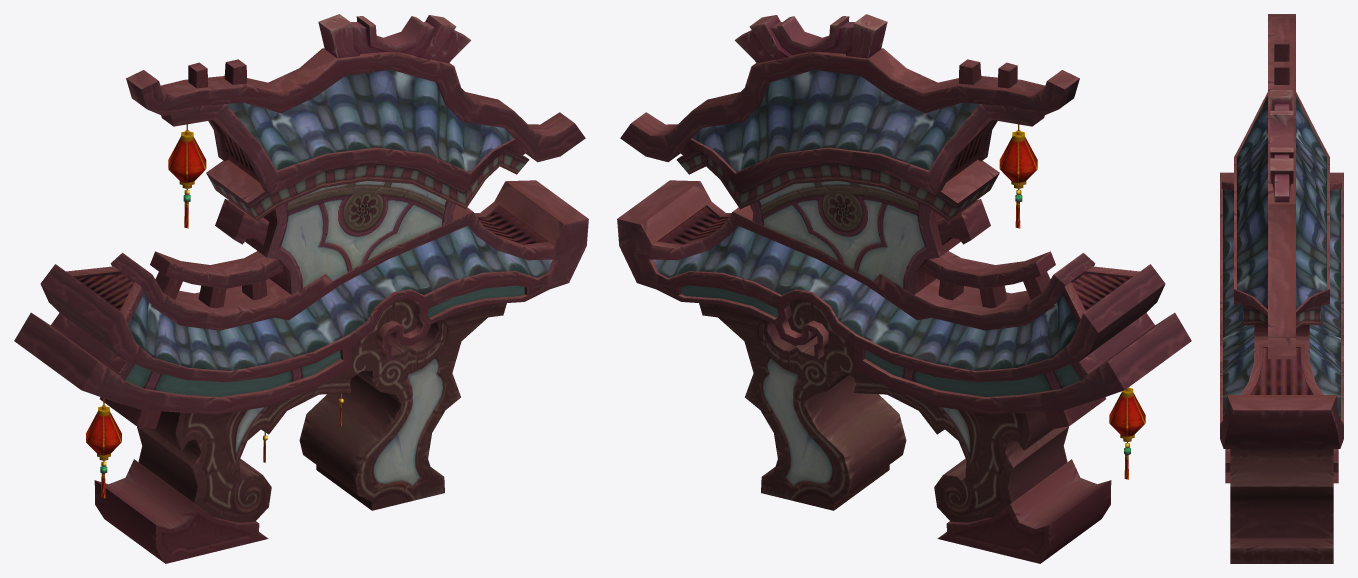
The picture shows the model from 3 angles, left to right: view 1: azimuth 30°, elevation 25°; view 2: azimuth 150°, elevation 25°; view 3: azimuth 270°, elevation 25°; orthographic projection. The views are drawn at different scales.
Parts seen in each view (by area): view 1: MB0002_18; view 2: MB0002_18; view 3: MB0002_18.
Part boxes in pixels (x1,y1,x2,y2): MB0002_18: [14, 14, 588, 563]; MB0002_18: [617, 14, 1191, 563]; MB0002_18: [1220, 14, 1343, 563].
Bounding box in the file's own units: 11.63 × 9.87 × 2.55.
